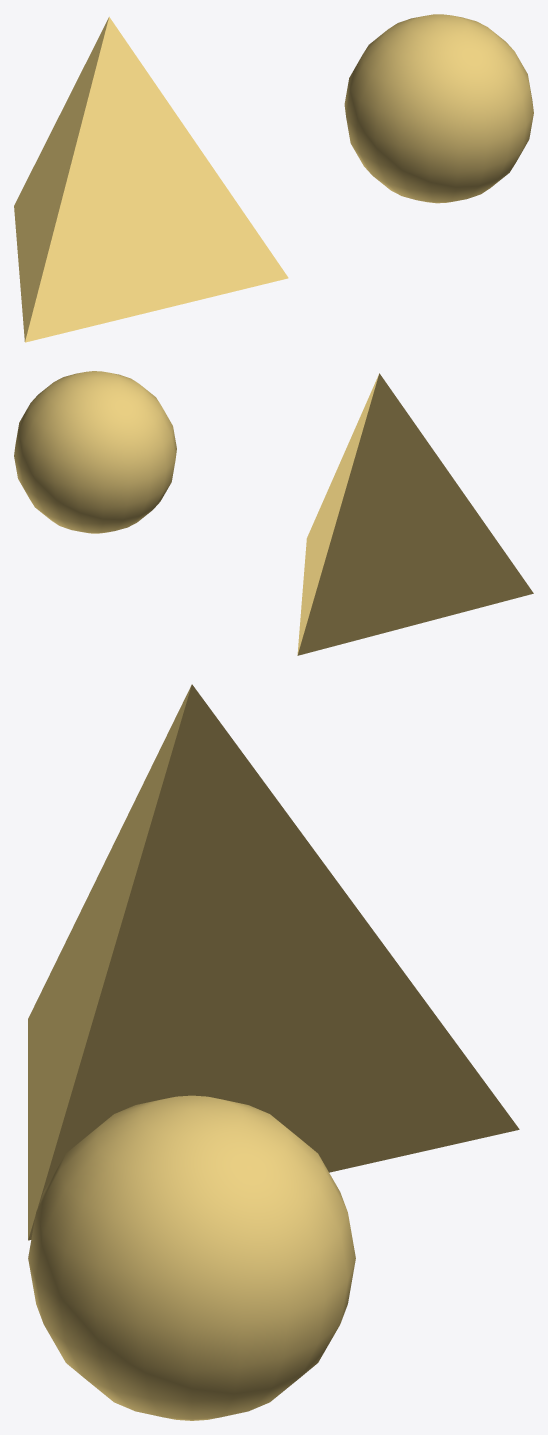
3 views of the same model, one above another, from view 1: azimuth 30°, elevation 25°; view 2: azimuth 150°, elevation 25°; view 3: azimuth 270°, elevation 25° (orthographic). The views are drawn at different scales.
Visible parts, largest first — view 1: Tetrahedron, Ball; view 2: Tetrahedron, Ball; view 3: Tetrahedron, Ball.
Part boxes in pixels (box(x1,y1,x2,y2)): Tetrahedron: box(14, 17, 288, 342); Ball: box(344, 14, 533, 203); Tetrahedron: box(297, 373, 533, 655); Ball: box(14, 371, 176, 533); Tetrahedron: box(28, 684, 519, 1240); Ball: box(28, 1095, 355, 1420).
Size of what is drawn, in the model's own units: 3.3 by 1.5 by 1.5.
